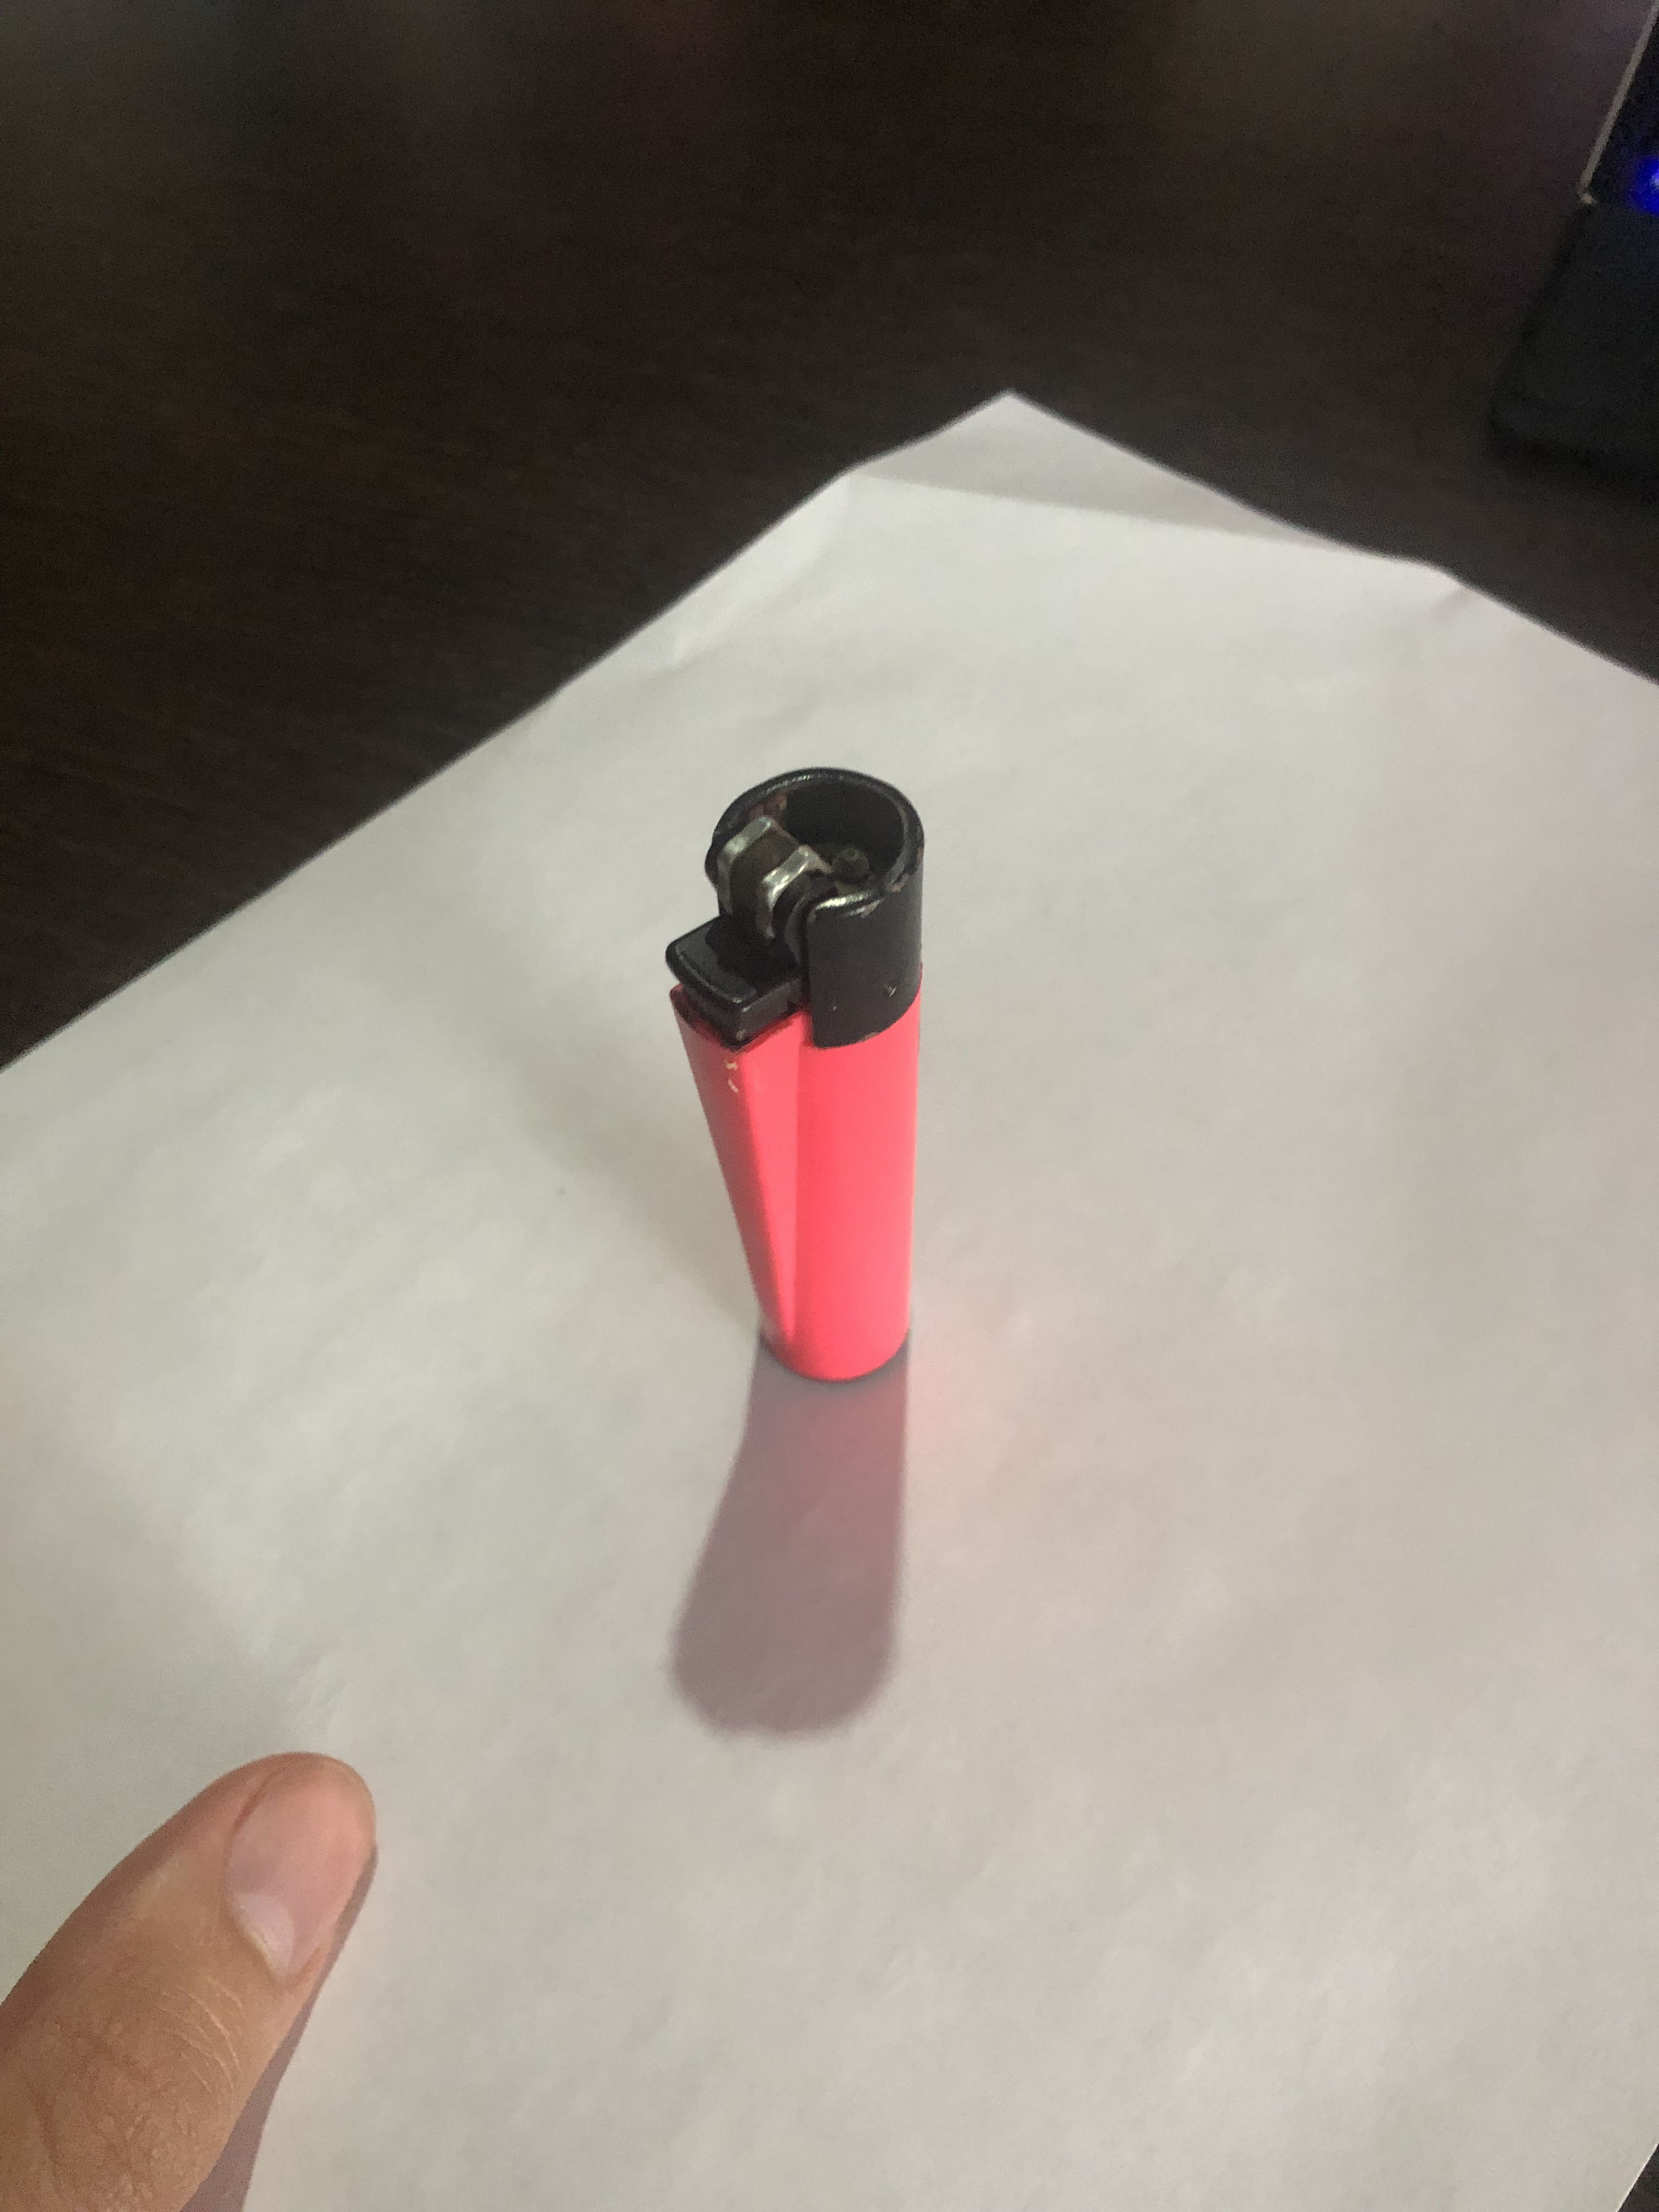Mechero: (631, 707, 979, 1409)
